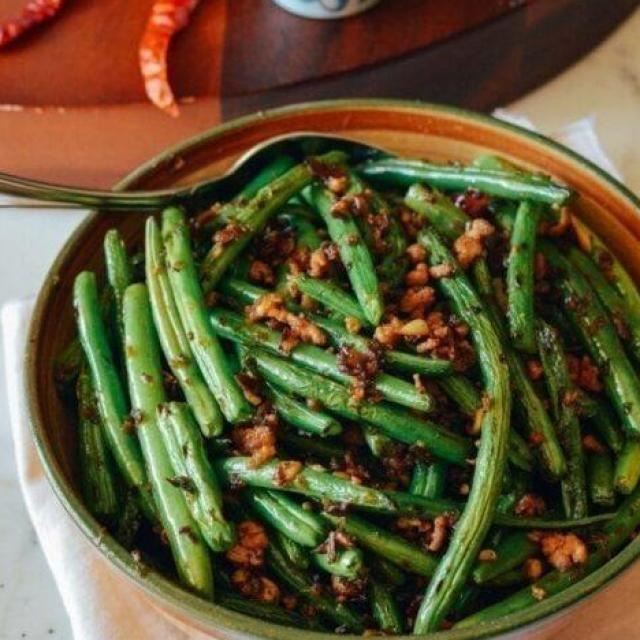Beans: (52, 139, 639, 639)
